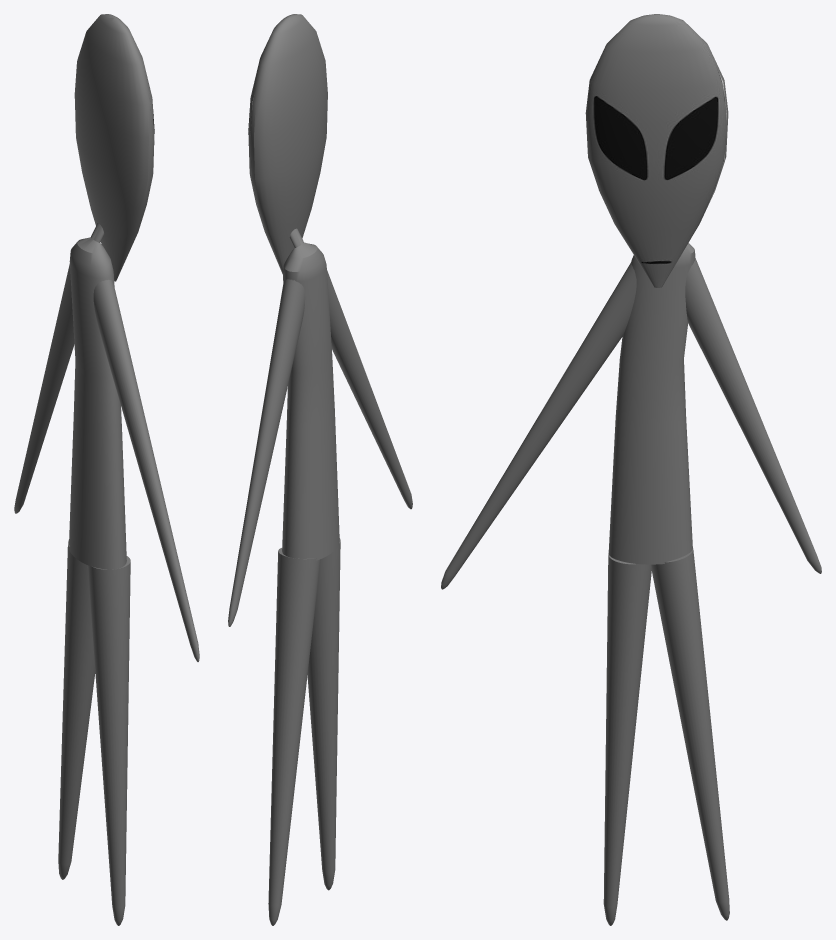
File: Alien.fbx
The picture shows the model from 3 angles, left to right: view 1: azimuth 30°, elevation 25°; view 2: azimuth 150°, elevation 25°; view 3: azimuth 270°, elevation 25°; orthographic projection. The views are drawn at different scales.
Parts seen in each view (by area): view 1: Cylinder.004; view 2: Cylinder.004; view 3: Cylinder.004.
Part boxes in pixels (x1,y1,x2,y2): Cylinder.004: [14, 14, 199, 925]; Cylinder.004: [228, 14, 412, 925]; Cylinder.004: [441, 14, 821, 925].
Size of the model in its own units: 21.73 by 303 by 114.
1 material, 1 textured.
